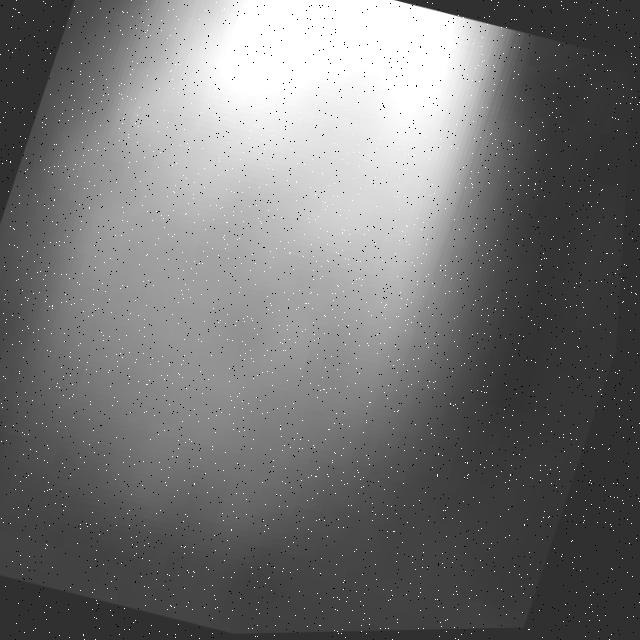person: (1, 1, 528, 634)
